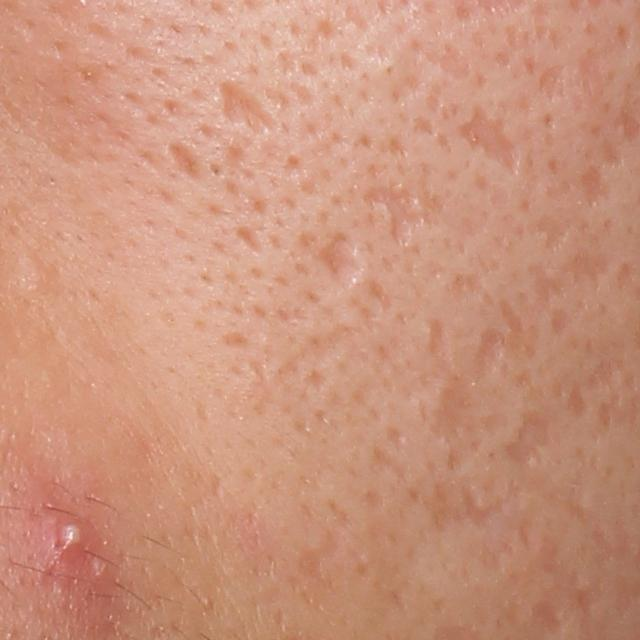atrophic_scar: (457, 98, 525, 175), (364, 178, 425, 253), (218, 81, 286, 142), (581, 356, 626, 429), (312, 232, 360, 286), (504, 415, 551, 469), (458, 480, 505, 533), (360, 438, 418, 480), (561, 246, 612, 292), (436, 387, 473, 445), (167, 138, 206, 185), (528, 263, 569, 306), (471, 329, 503, 383), (526, 597, 569, 637), (235, 221, 271, 261), (536, 214, 572, 252), (535, 64, 567, 105), (580, 168, 614, 204), (501, 299, 526, 335), (567, 377, 588, 417), (548, 307, 571, 334)
pustule: (22, 492, 107, 579)
